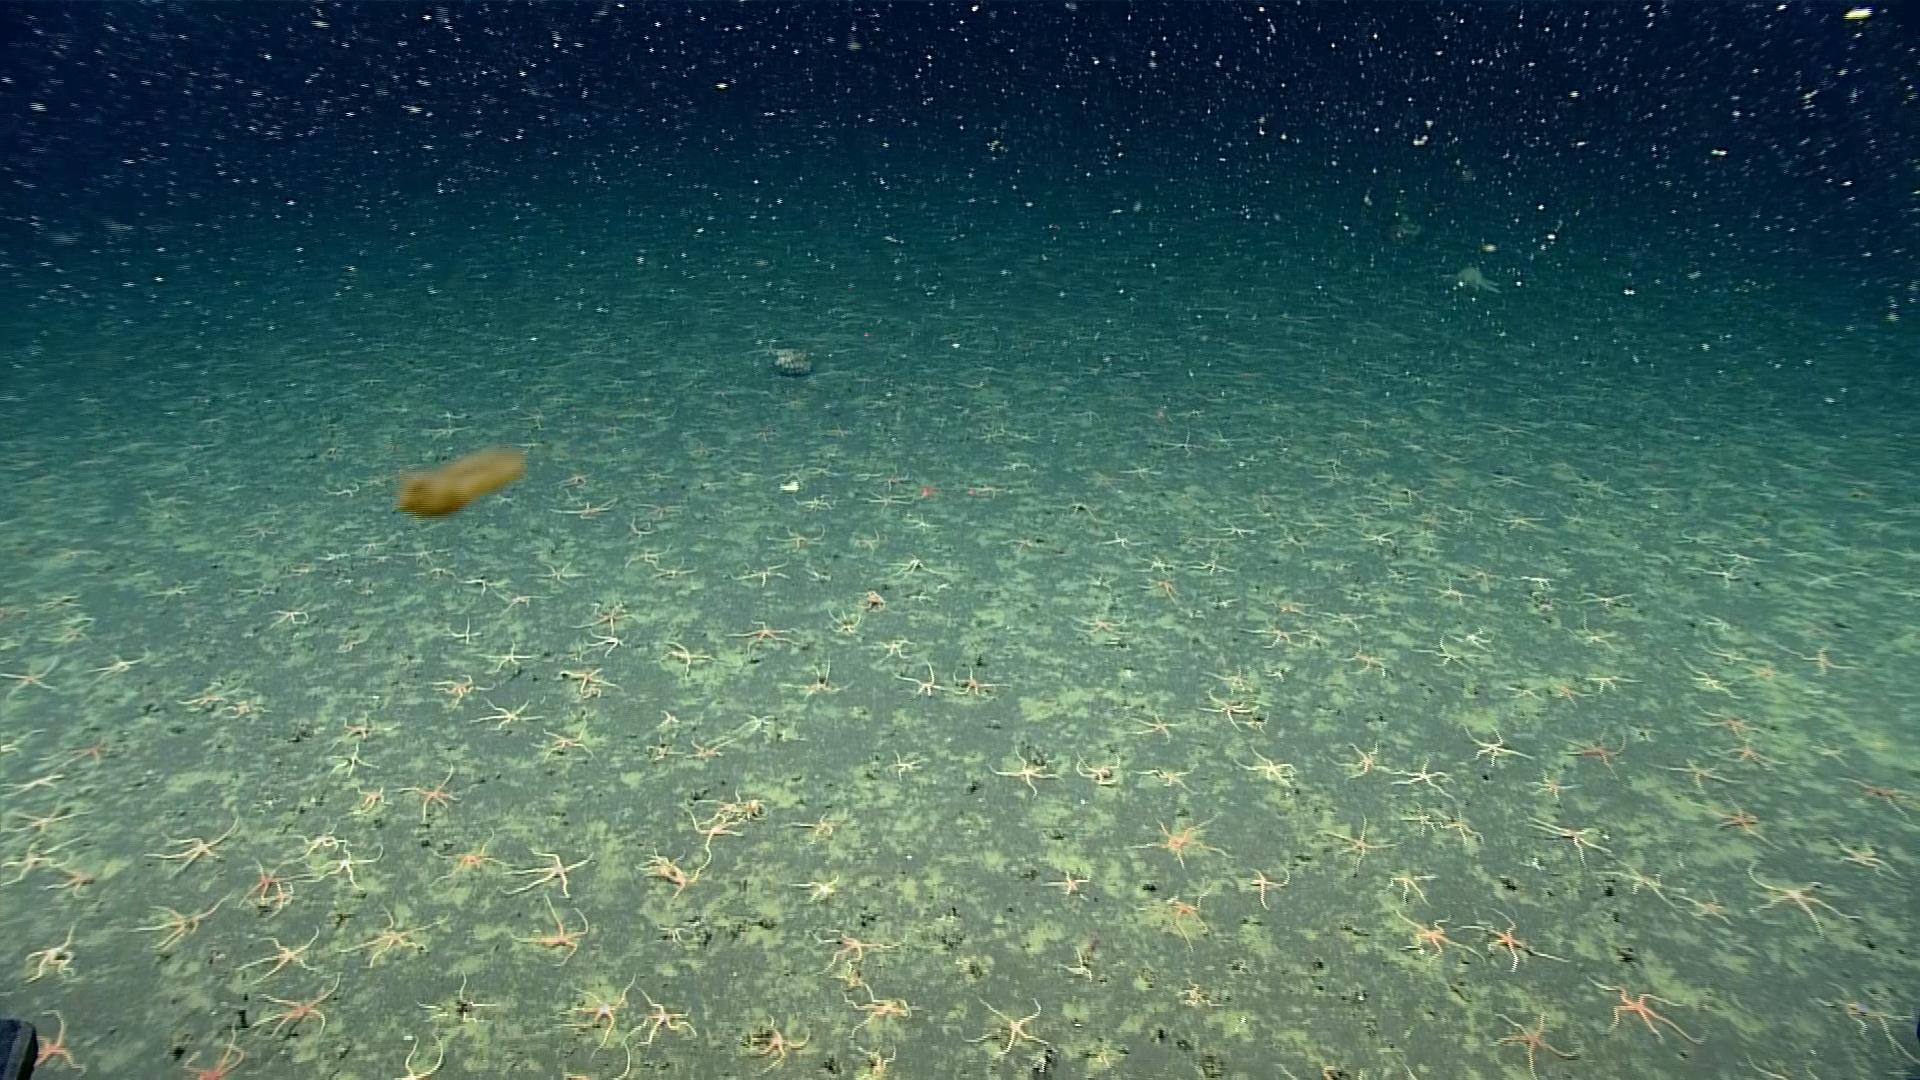brittle_sea_star: (1747, 868, 1859, 938), (553, 967, 637, 1052), (1589, 978, 1695, 1044), (1457, 911, 1564, 973), (338, 910, 448, 969), (131, 890, 235, 952), (1826, 992, 1919, 1059), (252, 975, 345, 1040), (1489, 1007, 1578, 1076), (512, 893, 589, 969), (1693, 789, 1785, 852), (964, 996, 1056, 1058), (237, 923, 324, 988), (1126, 816, 1232, 868), (1395, 907, 1485, 964), (145, 823, 233, 880), (1147, 884, 1220, 952), (803, 927, 898, 978), (414, 972, 500, 1029), (505, 845, 593, 899), (393, 765, 468, 827), (626, 986, 699, 1050), (427, 829, 502, 889), (0, 839, 91, 887), (1602, 855, 1684, 909), (1527, 819, 1615, 868), (1317, 815, 1398, 865), (633, 844, 700, 902), (992, 742, 1063, 795), (841, 985, 918, 1034), (682, 802, 744, 861), (32, 1005, 83, 1073), (187, 1023, 251, 1079), (1837, 771, 1917, 815), (744, 1015, 811, 1067), (1650, 753, 1743, 790), (24, 923, 82, 981), (305, 847, 382, 889), (1829, 835, 1899, 881), (1458, 724, 1534, 766), (1563, 731, 1627, 778), (0, 800, 84, 836), (779, 661, 852, 702), (1787, 641, 1863, 679), (237, 856, 291, 910), (0, 655, 69, 698), (1414, 632, 1484, 673), (1389, 756, 1455, 798), (393, 1031, 451, 1079), (1325, 740, 1393, 781), (1379, 861, 1444, 903), (1689, 699, 1763, 736), (728, 617, 800, 654), (1203, 687, 1261, 732), (1234, 749, 1303, 786), (477, 640, 543, 676), (472, 696, 538, 732), (555, 665, 620, 700), (654, 638, 713, 676), (291, 818, 342, 862), (1722, 740, 1784, 775), (537, 721, 596, 758), (566, 1048, 634, 1079), (1679, 889, 1737, 924), (430, 671, 492, 704), (711, 786, 770, 820), (1514, 770, 1575, 803), (1273, 1051, 1344, 1079), (791, 872, 844, 909), (1135, 758, 1197, 789), (1205, 661, 1262, 694), (1242, 617, 1303, 647), (1042, 866, 1095, 901), (852, 1036, 894, 1079), (1247, 868, 1292, 907), (1439, 808, 1486, 845), (582, 613, 638, 644), (948, 663, 998, 698), (898, 661, 944, 698), (46, 865, 102, 895), (1568, 618, 1621, 650), (1073, 754, 1124, 787), (1130, 708, 1180, 741), (1069, 611, 1129, 637), (786, 810, 837, 840), (579, 615, 630, 645), (735, 560, 789, 588), (1424, 578, 1476, 607), (546, 498, 612, 521), (90, 651, 142, 679), (324, 746, 372, 777), (178, 684, 229, 712), (766, 526, 824, 550), (1, 771, 66, 793), (884, 749, 928, 779), (1134, 571, 1185, 597), (1346, 644, 1387, 676), (492, 589, 545, 615), (1137, 551, 1183, 579), (1060, 945, 1096, 981), (335, 715, 385, 740), (1581, 670, 1640, 691), (869, 634, 914, 661), (73, 736, 112, 765), (1815, 737, 1853, 766), (1584, 587, 1633, 609), (680, 738, 725, 762), (621, 545, 667, 567), (1406, 806, 1441, 835), (893, 549, 930, 576), (1456, 622, 1493, 650), (825, 611, 864, 637), (1700, 566, 1745, 588), (352, 785, 386, 814), (1098, 526, 1138, 551), (270, 603, 310, 626), (1193, 551, 1233, 575), (1216, 520, 1257, 541), (459, 574, 505, 592), (1551, 680, 1586, 704), (860, 591, 894, 615), (448, 621, 477, 649), (152, 583, 198, 600), (228, 696, 265, 717), (897, 512, 938, 529), (1358, 530, 1400, 546), (654, 711, 682, 732), (646, 741, 671, 760)
